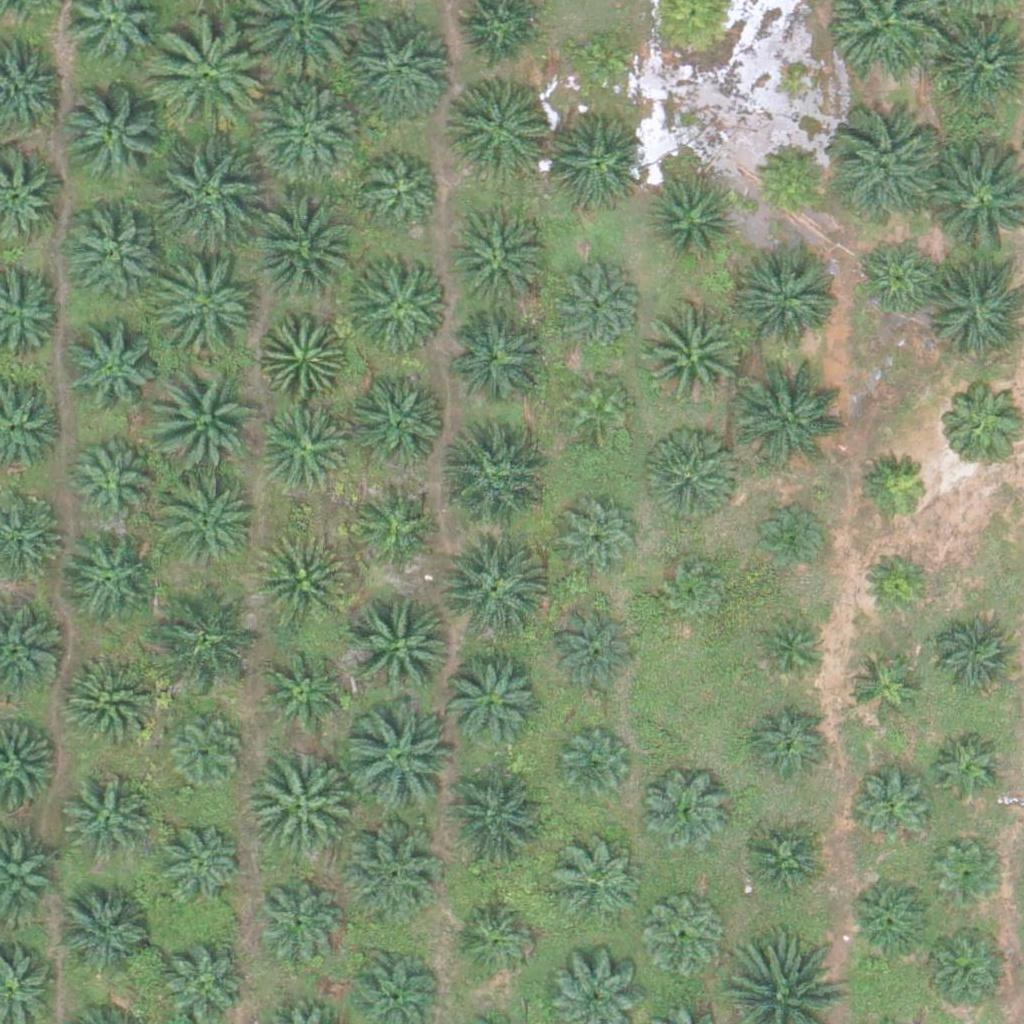Kelapa_Sawit: (433, 769, 546, 882), (342, 706, 455, 819), (153, 578, 266, 691), (153, 253, 266, 366), (152, 137, 265, 250), (831, 111, 944, 224), (253, 74, 365, 188), (348, 591, 460, 705), (242, 750, 354, 863), (152, 467, 264, 580), (147, 357, 259, 470), (150, 20, 262, 133), (245, 189, 357, 302), (343, 9, 455, 122), (434, 420, 546, 533), (435, 534, 547, 647), (736, 360, 848, 473), (442, 656, 542, 757), (339, 823, 439, 924), (56, 652, 156, 753), (58, 881, 158, 982), (63, 84, 163, 185), (58, 320, 158, 421), (61, 532, 161, 633), (251, 531, 351, 632), (350, 375, 450, 476), (349, 251, 449, 352), (451, 215, 551, 316), (449, 306, 549, 407), (542, 113, 642, 214), (641, 306, 741, 407), (738, 245, 838, 346), (62, 202, 162, 302), (448, 77, 548, 177), (642, 425, 742, 525), (848, 760, 936, 849), (746, 704, 834, 792), (734, 820, 822, 908), (918, 927, 1006, 1015), (164, 709, 252, 797), (153, 816, 241, 904), (451, 895, 539, 983), (640, 896, 728, 984), (66, 777, 154, 865), (855, 237, 943, 325), (262, 401, 350, 489), (258, 652, 346, 740), (356, 476, 444, 564), (549, 609, 637, 697), (556, 491, 644, 579), (934, 613, 1022, 701), (847, 875, 934, 963), (254, 877, 341, 965), (642, 767, 729, 855), (553, 840, 640, 928), (68, 434, 155, 522), (260, 309, 347, 397), (361, 151, 448, 239), (554, 258, 641, 346), (648, 178, 735, 266), (752, 139, 827, 215), (557, 730, 632, 806), (755, 501, 830, 577), (930, 840, 1005, 916), (753, 613, 828, 689), (564, 24, 639, 100), (860, 451, 935, 526), (561, 372, 636, 447), (845, 651, 920, 726), (659, 556, 734, 631), (933, 735, 1008, 810), (860, 547, 935, 622)
